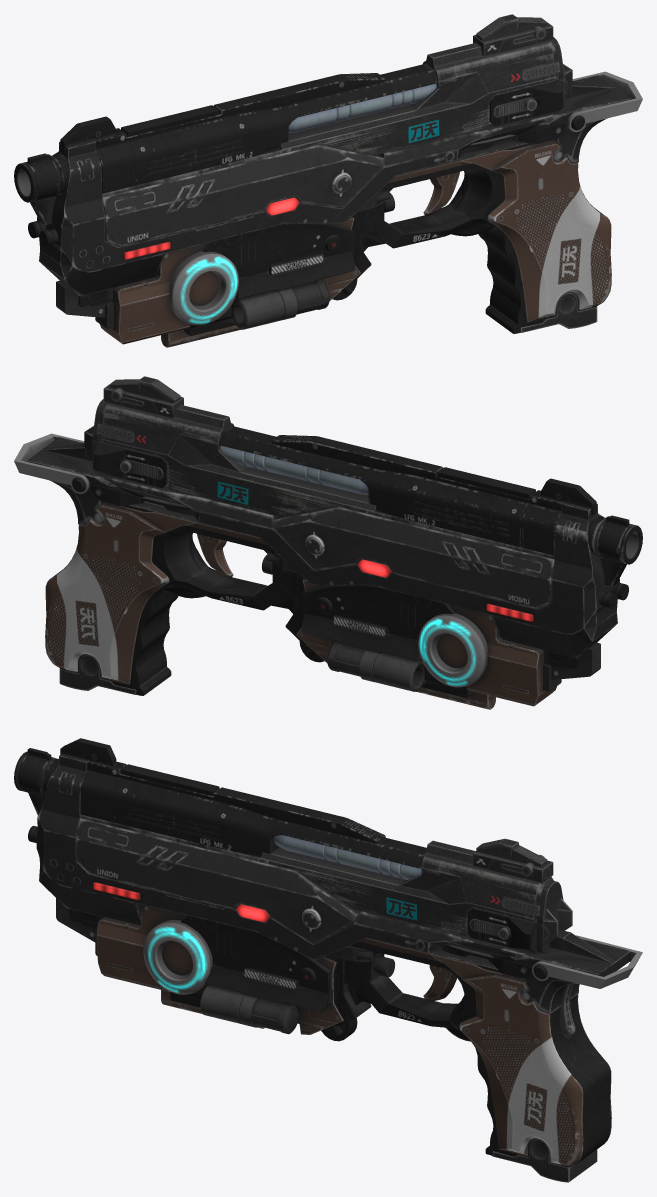
File: cyberpunk_pistol.fbx
The picture shows the model from 3 angles, top to bottom: view 1: azimuth 30°, elevation 25°; view 2: azimuth 150°, elevation 25°; view 3: azimuth 330°, elevation 25°; orthographic projection.
Parts seen in each view (by area): view 1: ShouQiang5_ShouQiang_0; view 2: ShouQiang5_ShouQiang_0; view 3: ShouQiang5_ShouQiang_0.
Part boxes in pixels (x1,y1,x2,y2): ShouQiang5_ShouQiang_0: (14, 14, 642, 347); ShouQiang5_ShouQiang_0: (14, 376, 642, 709); ShouQiang5_ShouQiang_0: (14, 738, 642, 1182).
Size of the model in its own units: 0.143 by 0.0701 by 0.0191.
Materials: 1 (1 with a texture image).
